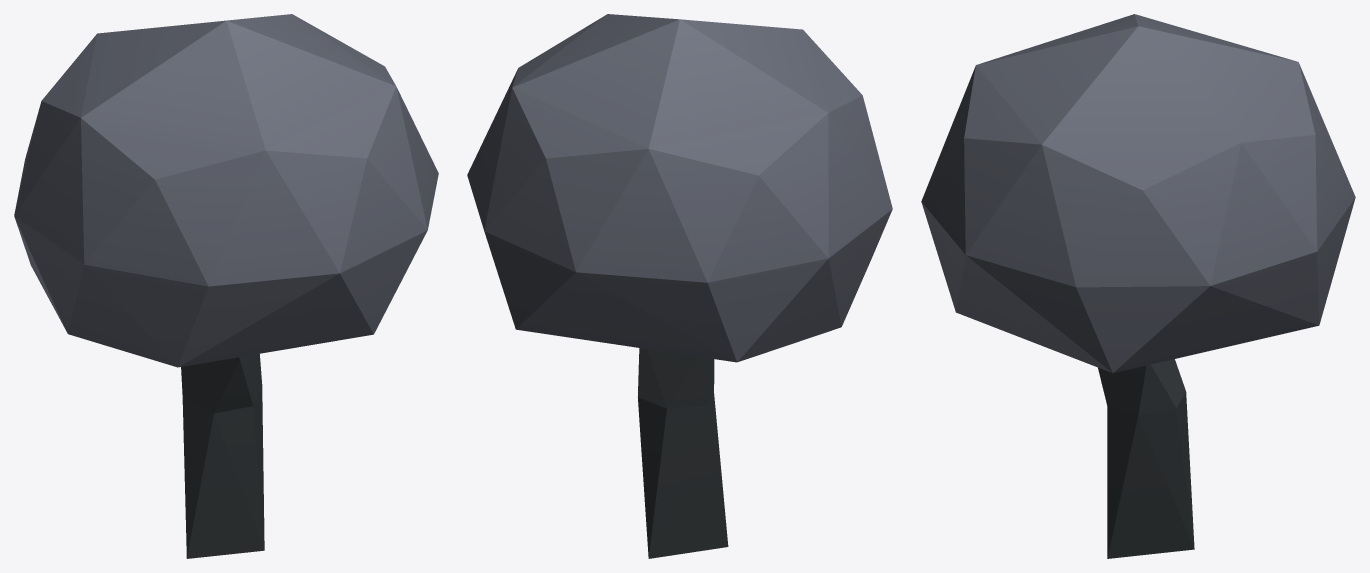
Rendered from Mushroom_01.fbx.
3 renders of one model, left to right at view 1: azimuth 30°, elevation 25°; view 2: azimuth 150°, elevation 25°; view 3: azimuth 270°, elevation 25°, orthographic.
Visible parts, largest first — view 1: Mushroom_01; view 2: Mushroom_01; view 3: Mushroom_01.
Part boxes in pixels (<box>): Mushroom_01: <box>14,14,438,558</box>; Mushroom_01: <box>467,14,892,558</box>; Mushroom_01: <box>921,14,1355,558</box>.
Size of the model in its own units: 0.2188 by 0.3026 by 0.2283.
